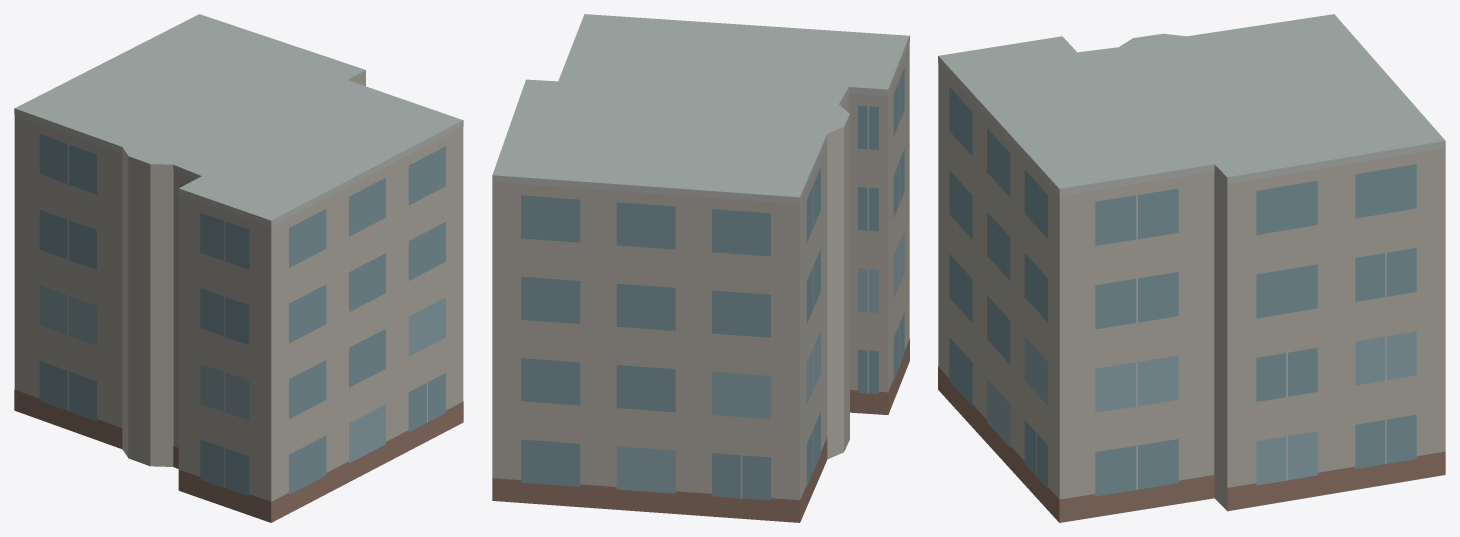
Rendered from survey-upis-32957462.glb.
The picture shows the model from 3 angles, left to right: view 1: azimuth 30°, elevation 25°; view 2: azimuth 150°, elevation 25°; view 3: azimuth 270°, elevation 25°; orthographic projection. The views are drawn at different scales.
Parts seen in each view (by area): view 1: survey-upis-32957462.tmp; view 2: survey-upis-32957462.tmp; view 3: survey-upis-32957462.tmp.
Part boxes in pixels (left/top/right/bottom): survey-upis-32957462.tmp: left=14, top=14, right=463, bottom=522; survey-upis-32957462.tmp: left=492, top=14, right=909, bottom=522; survey-upis-32957462.tmp: left=938, top=14, right=1445, bottom=522.
Size of the model in its own units: 13.1 by 11.65 by 16.06.
